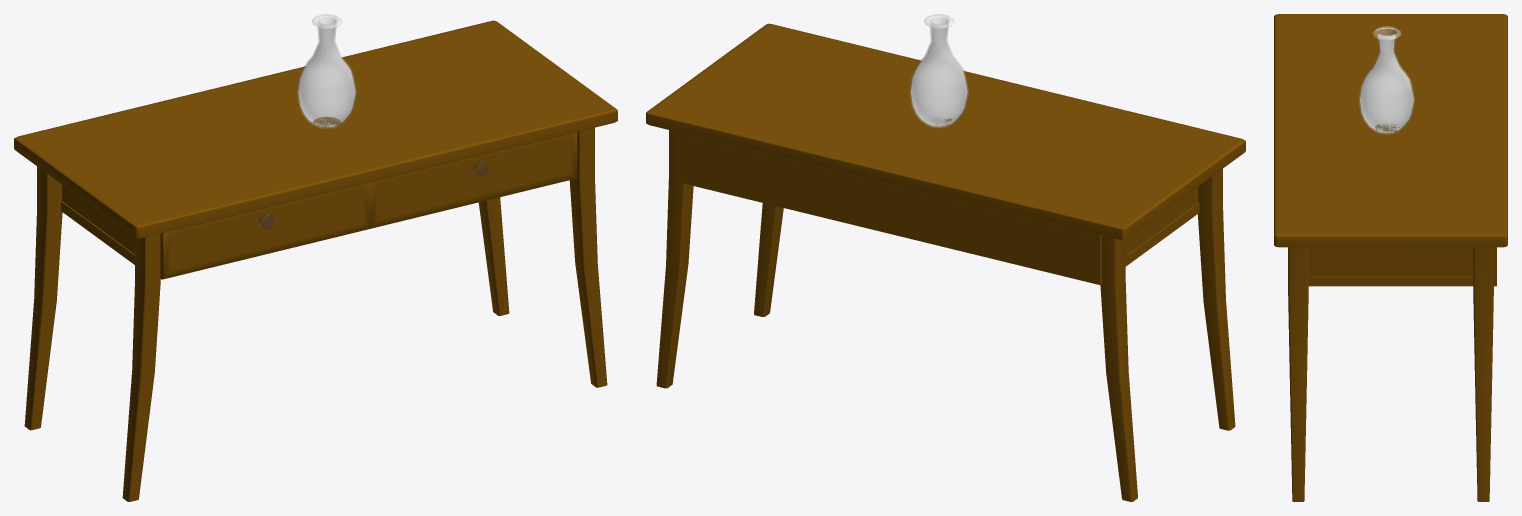
The model's file is vasetable.glb.
3 views of the same model, side by side, from view 1: azimuth 30°, elevation 25°; view 2: azimuth 150°, elevation 25°; view 3: azimuth 270°, elevation 25° (orthographic). The views are drawn at different scales.
Parts seen in each view (by area): view 1: rv_table_with_vase; view 2: rv_table_with_vase; view 3: rv_table_with_vase.
Boxes of the visible parts, <box> form: rv_table_with_vase: <box>14,14,617,501</box>; rv_table_with_vase: <box>646,14,1245,501</box>; rv_table_with_vase: <box>1274,14,1507,501</box>.
Bounding box in the file's own units: 5.01 × 3.83 × 2.22.
